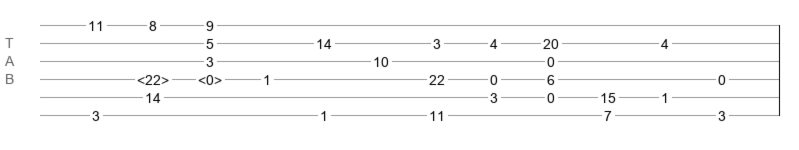0: (490, 72, 498, 82), (547, 54, 555, 64), (547, 90, 555, 100), (718, 72, 726, 82)
1: (263, 72, 271, 82), (320, 108, 328, 118), (661, 90, 669, 100)
10: (373, 54, 389, 64)
11: (88, 18, 104, 28), (429, 108, 445, 118)
14: (145, 90, 161, 100), (316, 36, 332, 46)
15: (600, 90, 616, 100)
20: (543, 36, 559, 46)
22: (429, 72, 445, 82)
3: (92, 108, 100, 118), (206, 54, 214, 64), (433, 36, 441, 46), (490, 90, 498, 100), (718, 108, 726, 118)
4: (490, 36, 498, 46), (661, 36, 669, 46)
5: (206, 36, 214, 46)
6: (547, 72, 555, 82)
7: (604, 108, 612, 118)
8: (149, 18, 157, 28)
9: (206, 18, 214, 28)
harmonic: (137, 72, 169, 82), (198, 72, 222, 82)
